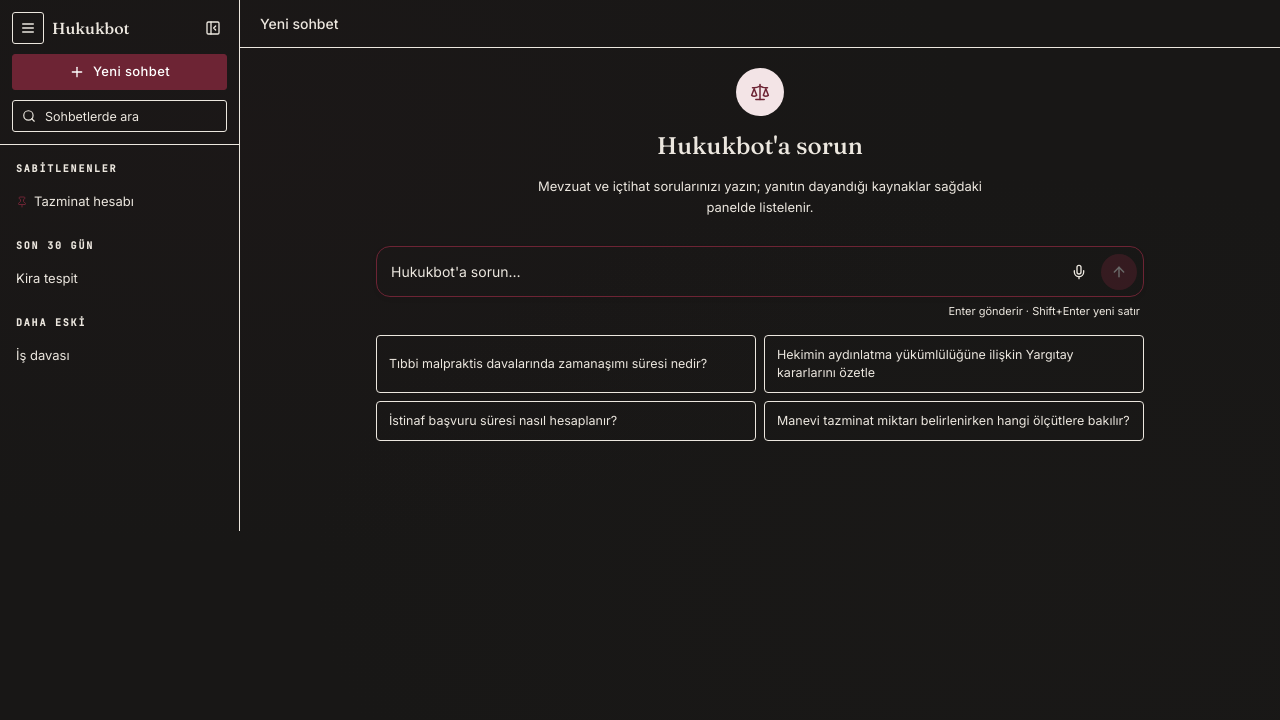
Scenario: HukukbotPage — yeniden tasarım (28.09) › örnek soru kutuyu doldurur ama GÖNDERMEZ
Click the button "Tıbbi malpraktis davalarında zamanaşımı süresi nedir?" at point(566, 364), box [376,335,756,393]
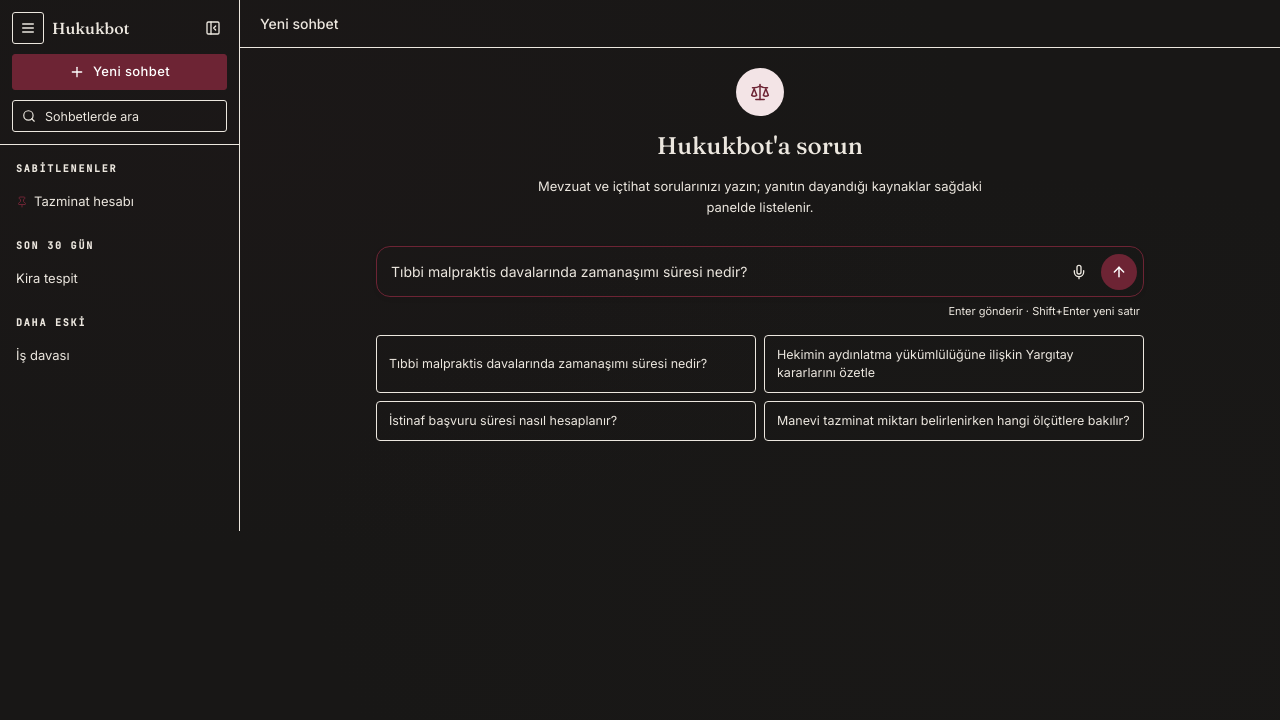
Expected: the text box with test id "hukukbot-soru" holds "Tıbbi malpraktis davalarında zamanaşımı süresi nedir?", [391,253,1057,290]
